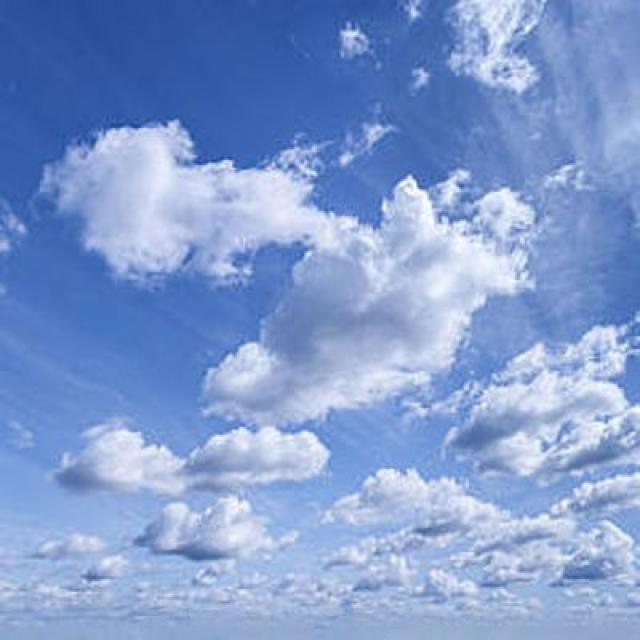Ci: (1, 41, 640, 556)
